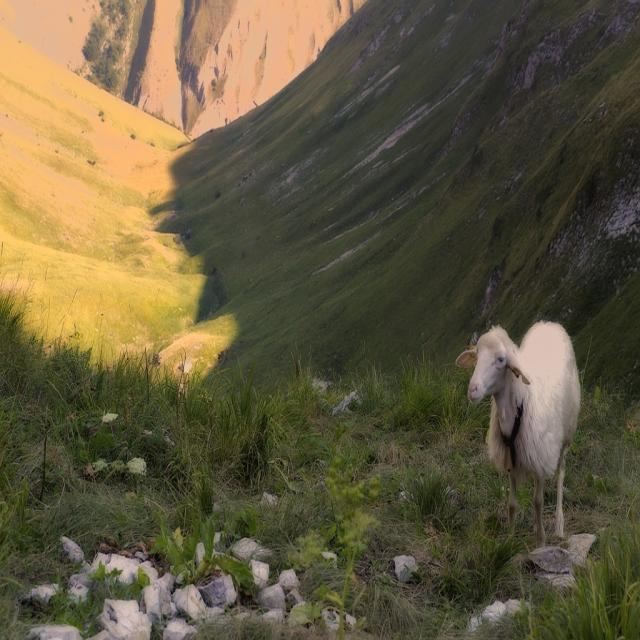Goat: (455, 318, 582, 547)
